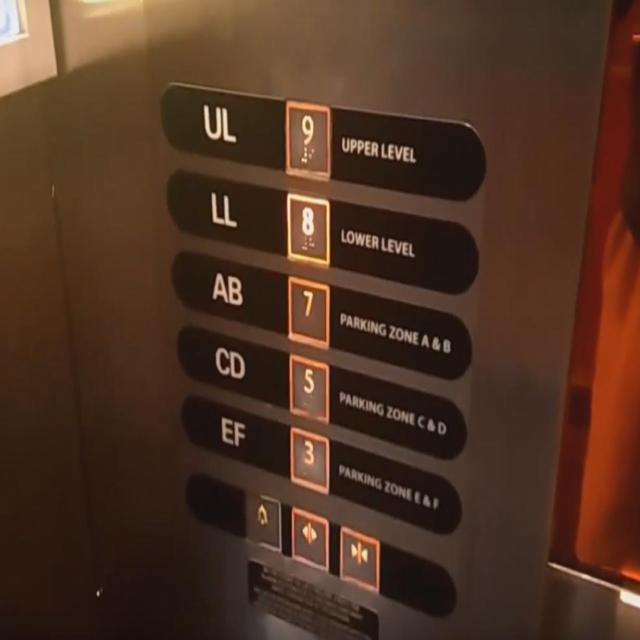3: (286, 424, 331, 495)
5: (286, 351, 332, 424)
7: (286, 271, 332, 350)
8: (284, 188, 332, 268)
9: (282, 95, 332, 184)
alarm: (240, 488, 282, 556)
close: (336, 522, 381, 594)
open: (286, 503, 331, 574)
